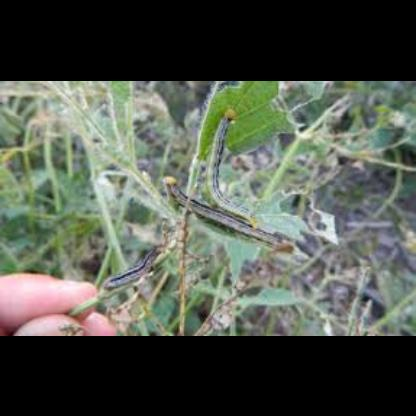oruga: (158, 166, 290, 256), (206, 108, 254, 220), (100, 242, 160, 290)
